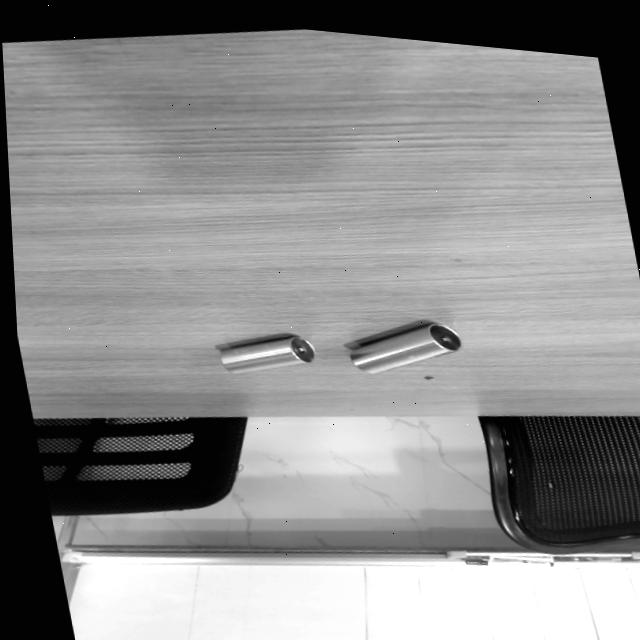Co_Lon: (347, 316, 462, 378)
Co_Nho: (218, 332, 315, 376)
